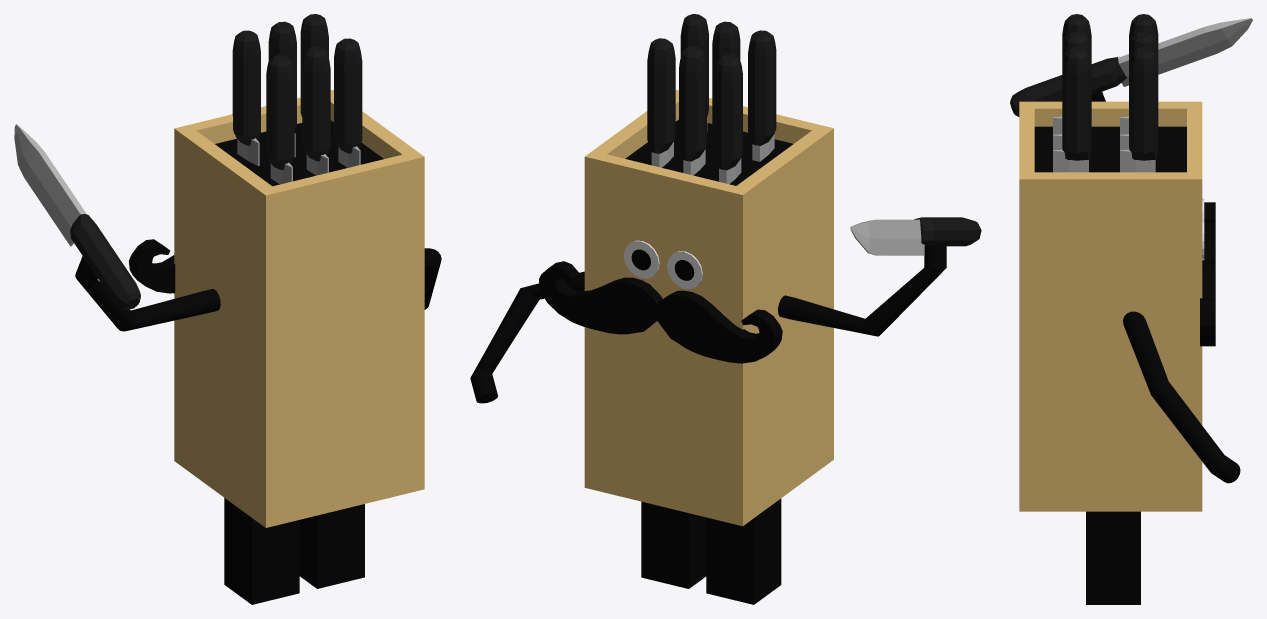
Rendered from knife_block.glb.
3 views of the same model, side by side, from view 1: azimuth 30°, elevation 25°; view 2: azimuth 150°, elevation 25°; view 3: azimuth 270°, elevation 25° (orthographic).
Visible parts, largest first — view 1: Cube.004; view 2: Cube.004; view 3: Cube.004.
Part boxes in pixels (x1,y1,x2,y2): Cube.004: (14, 14, 441, 604); Cube.004: (470, 14, 981, 604); Cube.004: (1010, 14, 1252, 604).
Size of the model in its own units: 4.6 by 5.79 by 2.34.
